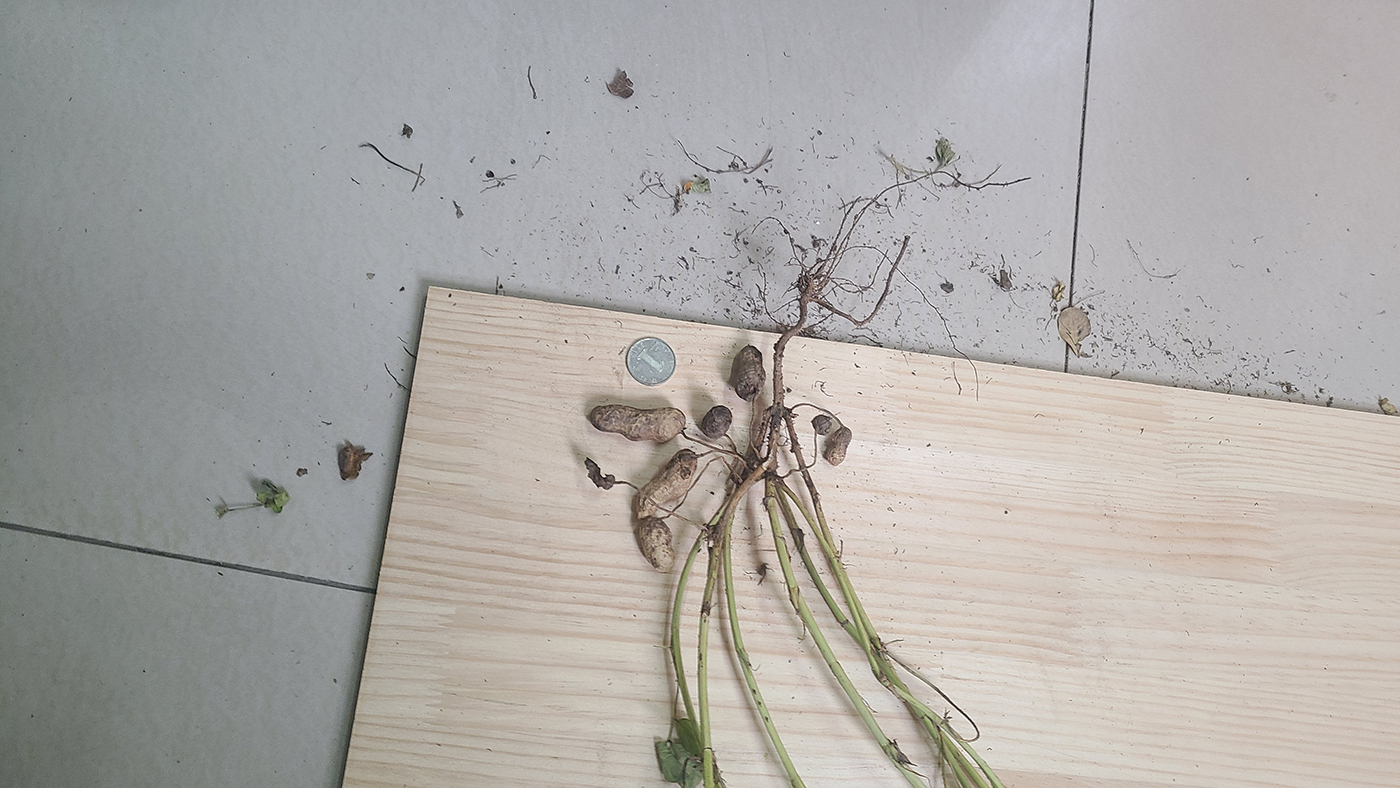h: (639, 516, 676, 573)
l: (632, 449, 697, 520), (589, 403, 686, 442), (734, 345, 766, 402), (825, 426, 853, 465), (701, 405, 733, 439), (583, 457, 614, 489), (811, 414, 833, 435)
